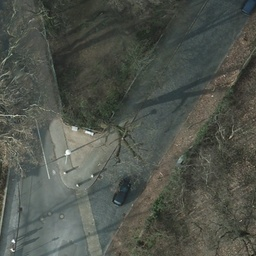car: (112, 175, 135, 206), (237, 1, 255, 16)
